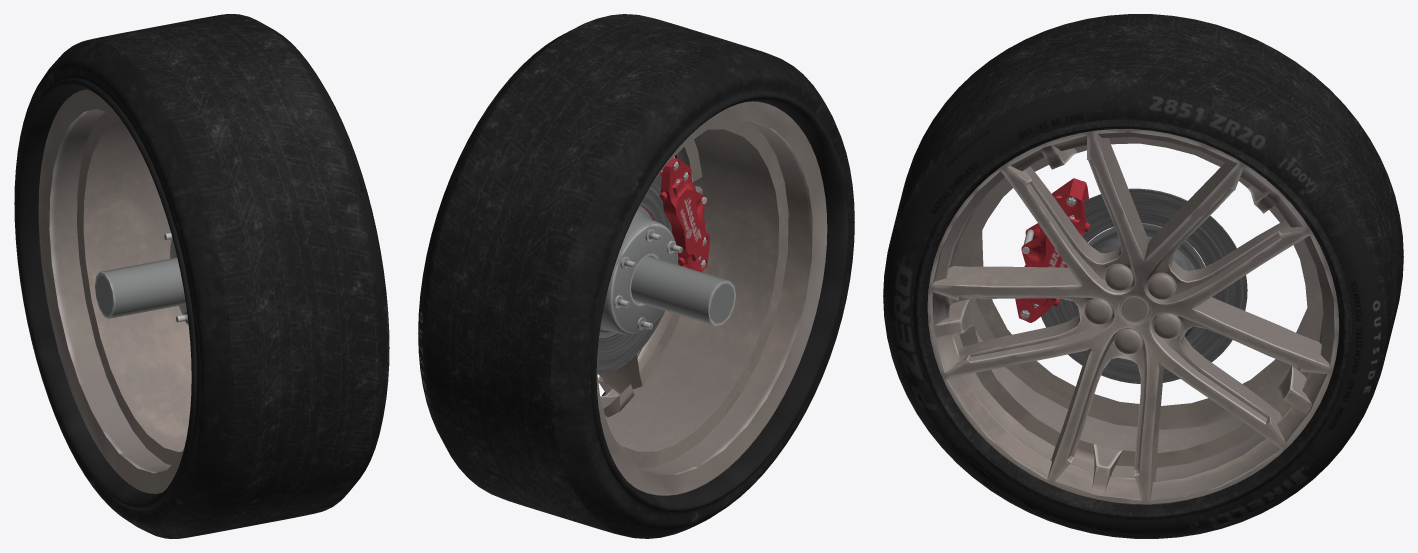
File: car_tyre_game_ready_p_zero.fbx
3 views of the same model, side by side, from view 1: azimuth 30°, elevation 25°; view 2: azimuth 150°, elevation 25°; view 3: azimuth 270°, elevation 25° (orthographic).
Parts seen in each view (by area): view 1: node_97ce8b12_071c_4523_95df_fcca95b4c53a_mesh0, node_c0bdf594_ed81_498c_94ce_3fb29ba7cdb2_mesh0, node_260b46d0_005f_4833_8b15_c57376f4dc19_mesh0; view 2: node_97ce8b12_071c_4523_95df_fcca95b4c53a_mesh0, node_c0bdf594_ed81_498c_94ce_3fb29ba7cdb2_mesh0, node_260b46d0_005f_4833_8b15_c57376f4dc19_mesh0, node_e25903a8_0e13_4513_96e6_ac73bbc51e5f_mesh0, node_2a98c1a9_2809_4f01_ae1a_34cc529c827e_mesh0, node_5a8ffa6e_b952_47f8_a140_6d5a22857fa5_mesh0; view 3: node_97ce8b12_071c_4523_95df_fcca95b4c53a_mesh0, node_c0bdf594_ed81_498c_94ce_3fb29ba7cdb2_mesh0, node_5a8ffa6e_b952_47f8_a140_6d5a22857fa5_mesh0, node_2a98c1a9_2809_4f01_ae1a_34cc529c827e_mesh0, node_e95914b0_2e3d_426f_a587_75ad749e9f82_mesh0, node_85553607_3a63_4fc6_9c79_36a5e17535ac_mesh0.
Boxes of the visible parts, x1=… form: node_97ce8b12_071c_4523_95df_fcca95b4c53a_mesh0: x1=14, y1=14, x2=389, y2=538; node_c0bdf594_ed81_498c_94ce_3fb29ba7cdb2_mesh0: x1=38, y1=89, x2=191, y2=493; node_260b46d0_005f_4833_8b15_c57376f4dc19_mesh0: x1=95, y1=257, x2=185, y2=318; node_97ce8b12_071c_4523_95df_fcca95b4c53a_mesh0: x1=418, y1=14, x2=854, y2=538; node_c0bdf594_ed81_498c_94ce_3fb29ba7cdb2_mesh0: x1=596, y1=101, x2=827, y2=495; node_260b46d0_005f_4833_8b15_c57376f4dc19_mesh0: x1=631, y1=256, x2=735, y2=325; node_e25903a8_0e13_4513_96e6_ac73bbc51e5f_mesh0: x1=599, y1=205, x2=677, y2=337; node_2a98c1a9_2809_4f01_ae1a_34cc529c827e_mesh0: x1=641, y1=157, x2=710, y2=272; node_5a8ffa6e_b952_47f8_a140_6d5a22857fa5_mesh0: x1=597, y1=174, x2=679, y2=374; node_97ce8b12_071c_4523_95df_fcca95b4c53a_mesh0: x1=883, y1=14, x2=1403, y2=538; node_c0bdf594_ed81_498c_94ce_3fb29ba7cdb2_mesh0: x1=927, y1=129, x2=1339, y2=504; node_5a8ffa6e_b952_47f8_a140_6d5a22857fa5_mesh0: x1=1041, y1=188, x2=1247, y2=383; node_2a98c1a9_2809_4f01_ae1a_34cc529c827e_mesh0: x1=1015, y1=178, x2=1090, y2=322; node_e95914b0_2e3d_426f_a587_75ad749e9f82_mesh0: x1=1085, y1=264, x2=1181, y2=353; node_85553607_3a63_4fc6_9c79_36a5e17535ac_mesh0: x1=1071, y1=230, x2=1201, y2=339.
Size of the model in its own units: 42.94 by 84.28 by 86.2.
Materials: 1 (1 with a texture image).
